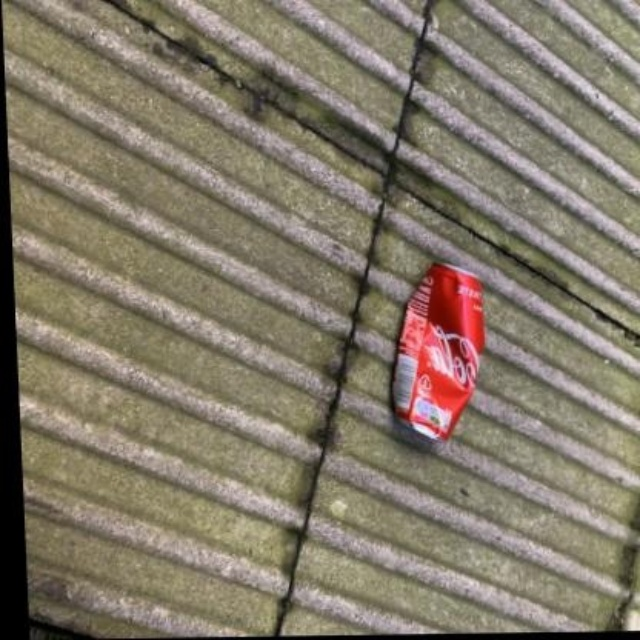trash: (392, 263, 483, 440)
